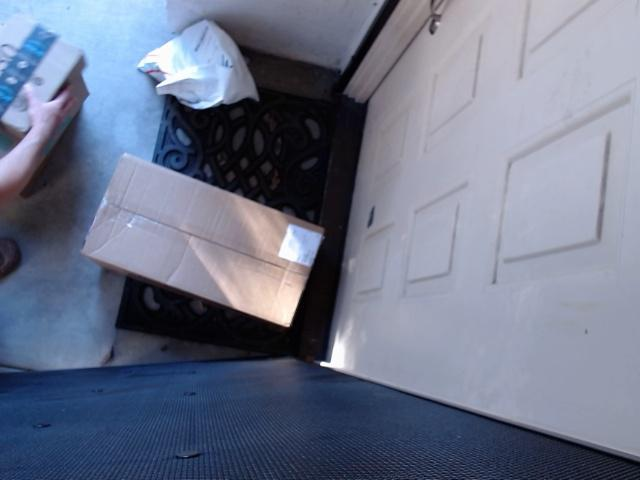box: (84, 131, 325, 336), (0, 6, 98, 145)
plastic_bag: (134, 4, 297, 115)
